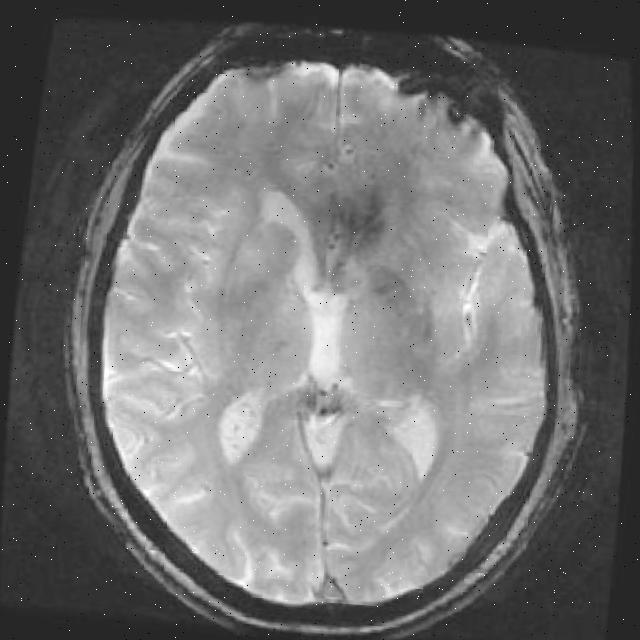EMCI: (383, 388, 453, 492), (202, 393, 262, 509), (464, 211, 506, 315)
